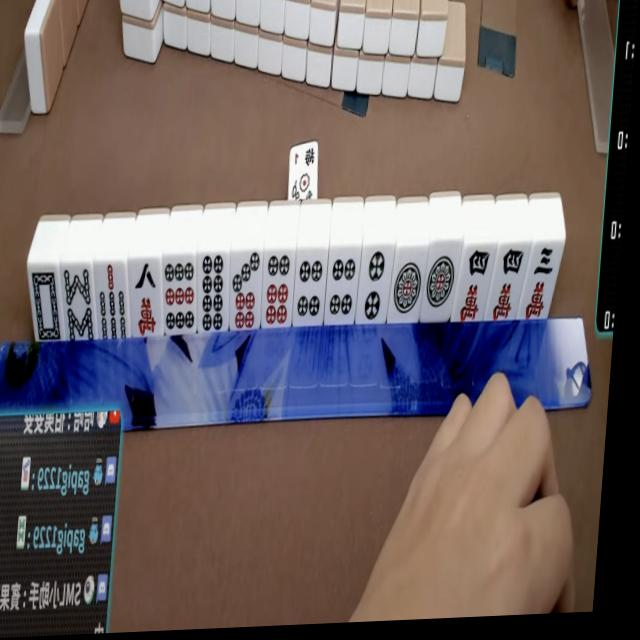bai: (22, 266, 69, 344)
f1: (287, 143, 319, 201)
m3: (518, 242, 564, 321)
m4: (451, 244, 496, 323), (484, 244, 529, 322)
m8: (123, 258, 167, 338)
s7: (90, 260, 135, 340)
s8: (54, 264, 100, 343)
t1: (420, 241, 462, 321), (388, 245, 427, 323)
t2: (355, 244, 393, 323)
t4: (323, 247, 360, 325), (293, 249, 329, 326)
t6: (260, 249, 296, 328)
t7: (226, 251, 264, 331)
t8: (191, 253, 232, 336)
t9: (157, 253, 200, 335)
